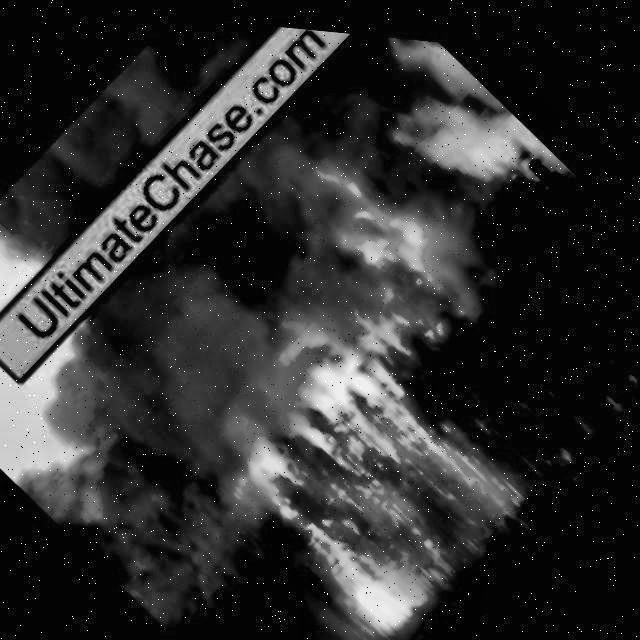Fire: (214, 321, 547, 640), (304, 137, 467, 308)
Smoke: (15, 111, 393, 537), (0, 0, 345, 312), (294, 22, 547, 243)
